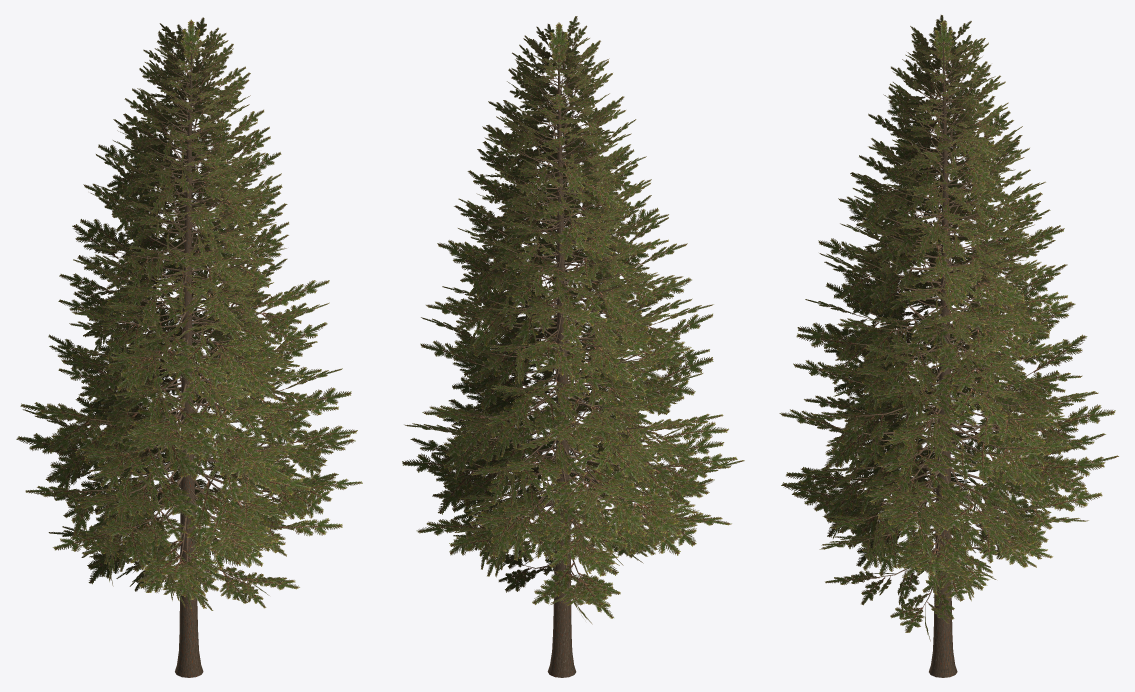
File: fir_medium_a_lod0.gltf
The picture shows the model from 3 angles, left to right: view 1: azimuth 30°, elevation 25°; view 2: azimuth 150°, elevation 25°; view 3: azimuth 270°, elevation 25°; orthographic projection.
Visible parts, largest first — view 1: fir_medium_a_LOD0; view 2: fir_medium_a_LOD0; view 3: fir_medium_a_LOD0.
Boxes of the visible parts, <box> form: fir_medium_a_LOD0: <box>16,17,362,677</box>; fir_medium_a_LOD0: <box>402,16,744,677</box>; fir_medium_a_LOD0: <box>779,15,1118,677</box>.
Bounding box in the file's own units: 10.04 × 20.48 × 9.84.
2 materials, 2 textured.
